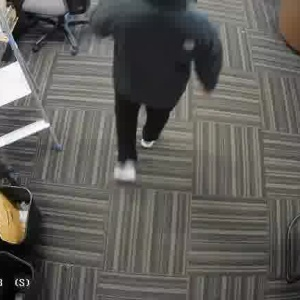person: (101, 0, 219, 180)
